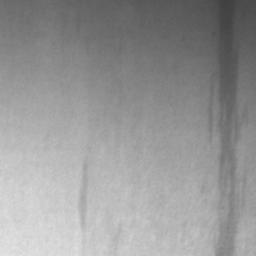Inclusion: (218, 0, 239, 256), (78, 164, 88, 221)
